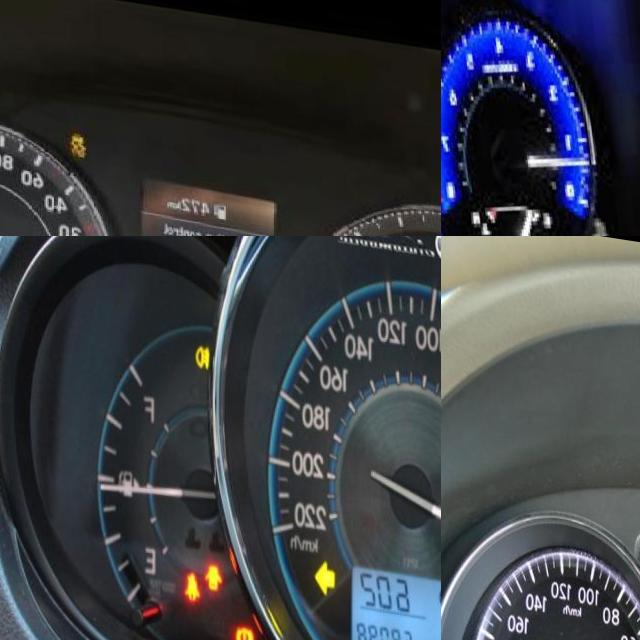Seat Belt: (185, 566, 200, 596)
